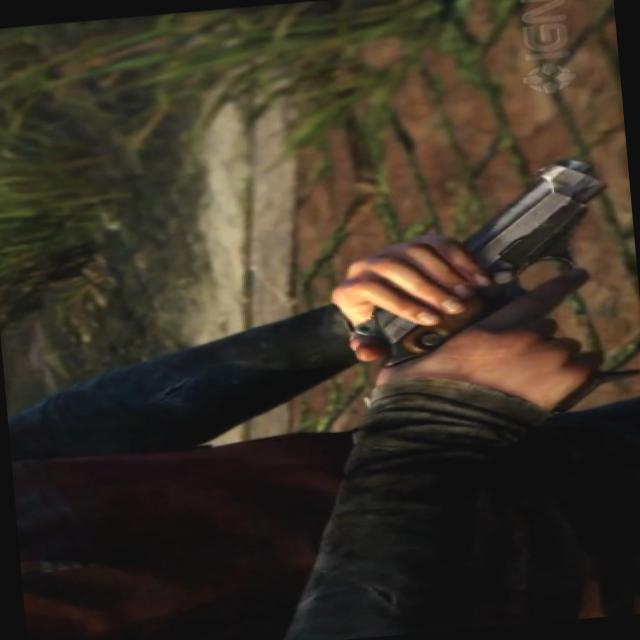handgun: (316, 152, 634, 474)
